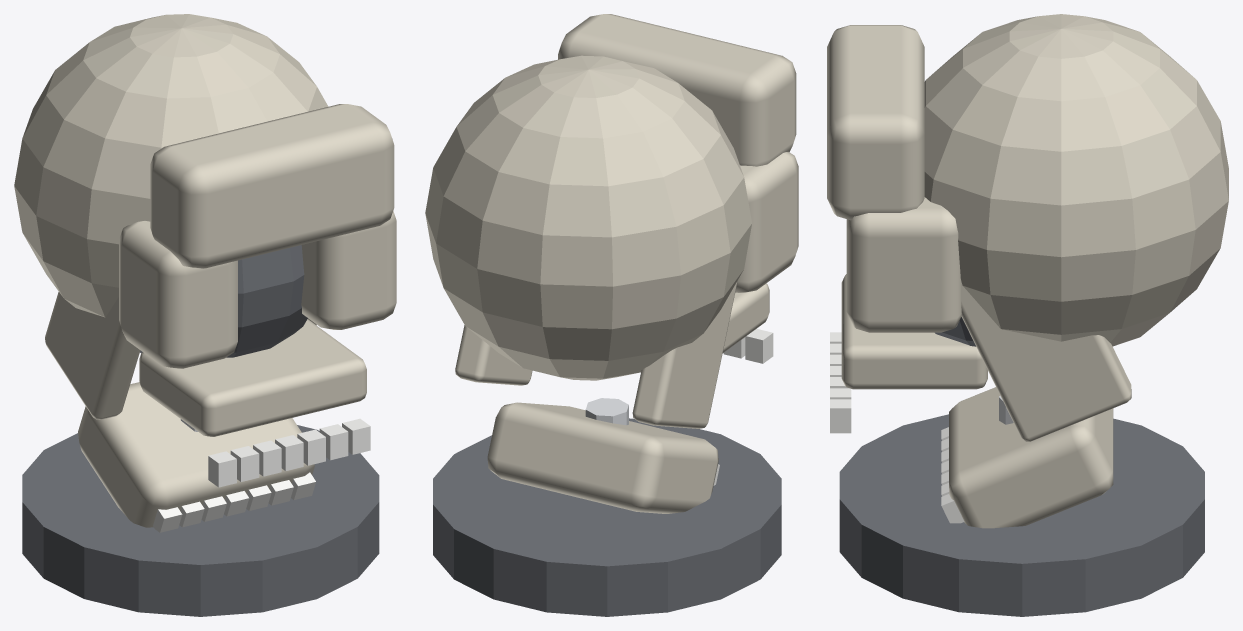
The model's file is human-anatomy-and-education-kit-skull-jaw-open-462e1b34__38941.glb.
3 renders of one model, left to right at view 1: azimuth 30°, elevation 25°; view 2: azimuth 150°, elevation 25°; view 3: azimuth 270°, elevation 25°, orthographic. The views are drawn at different scales.
Parts seen in each view (by area): view 1: skull-jaw-open, jaw (×2); view 2: skull-jaw-open, jaw; view 3: skull-jaw-open, jaw (×2).
Boxes of the visible parts, x1=… form: skull-jaw-open: x1=14, y1=14, x2=396, y2=616; jaw (×2): x1=45, y1=292, x2=316, y2=532; skull-jaw-open: x1=425, y1=14, x2=798, y2=616; jaw: x1=455, y1=281, x2=737, y2=513; skull-jaw-open: x1=827, y1=14, x2=1228, y2=616; jaw (×2): x1=941, y1=280, x2=1131, y2=528.
Size of the model in its own units: 0.19 by 0.288 by 0.2058.
